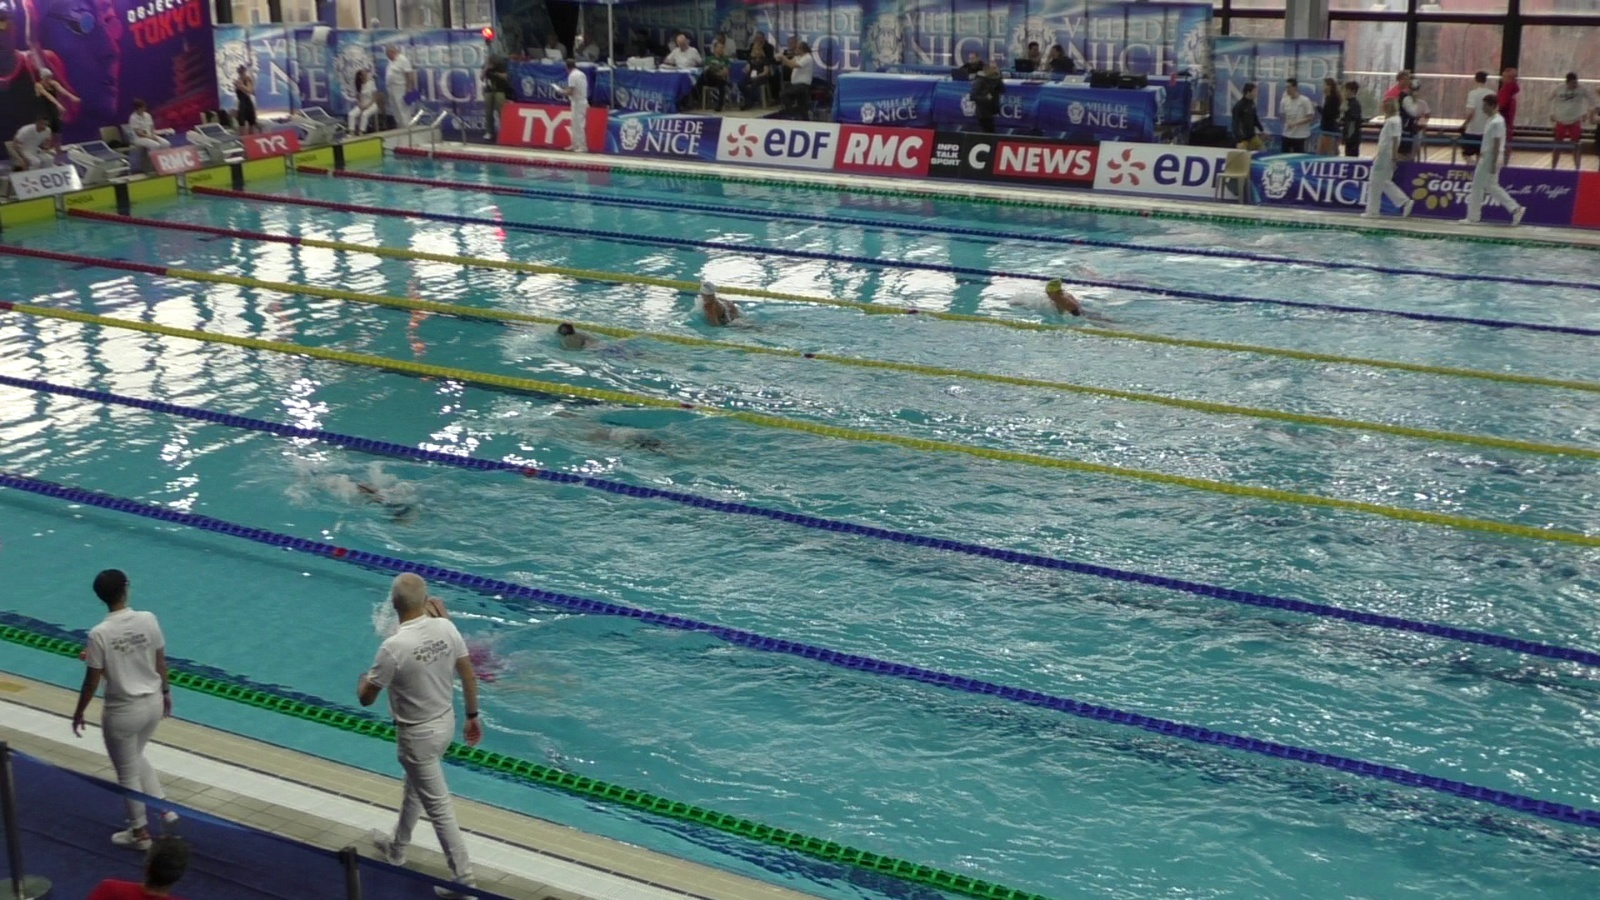swimmerwdd: (401, 596, 534, 691), (549, 320, 655, 381), (1041, 273, 1133, 341), (557, 421, 698, 465), (341, 476, 438, 537), (1062, 256, 1167, 300), (1207, 221, 1299, 264), (689, 281, 762, 327)
